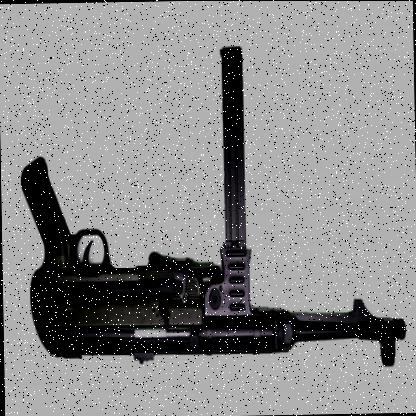rifle: (14, 30, 411, 387)
